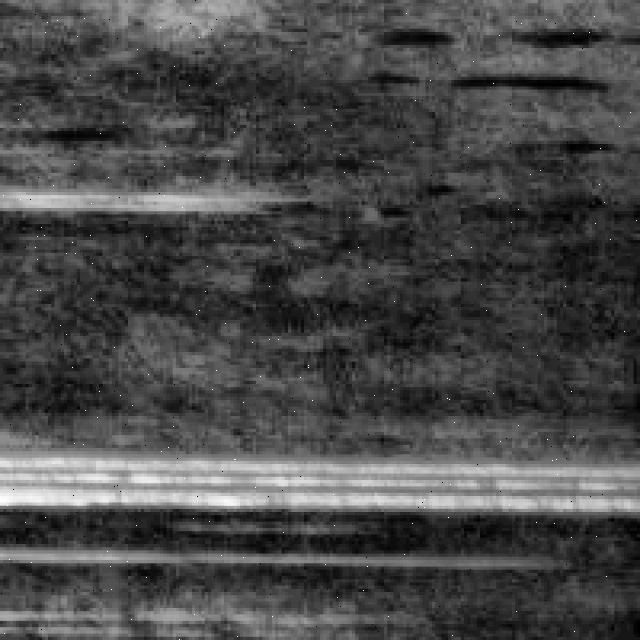Inclusion: (0, 432, 634, 522), (0, 176, 298, 221)
